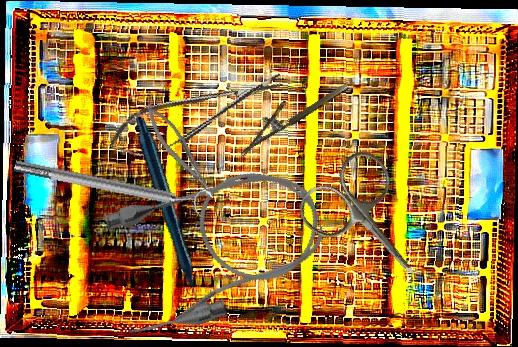Cannula: (91, 150, 339, 347)
Fixation Ring: (11, 148, 215, 222)
Handpiece: (81, 116, 251, 317)
Iris Scissors: (290, 142, 451, 308)
Micro Scissor: (103, 63, 291, 165)
Needle Holder: (229, 67, 351, 158), (139, 98, 218, 202)
